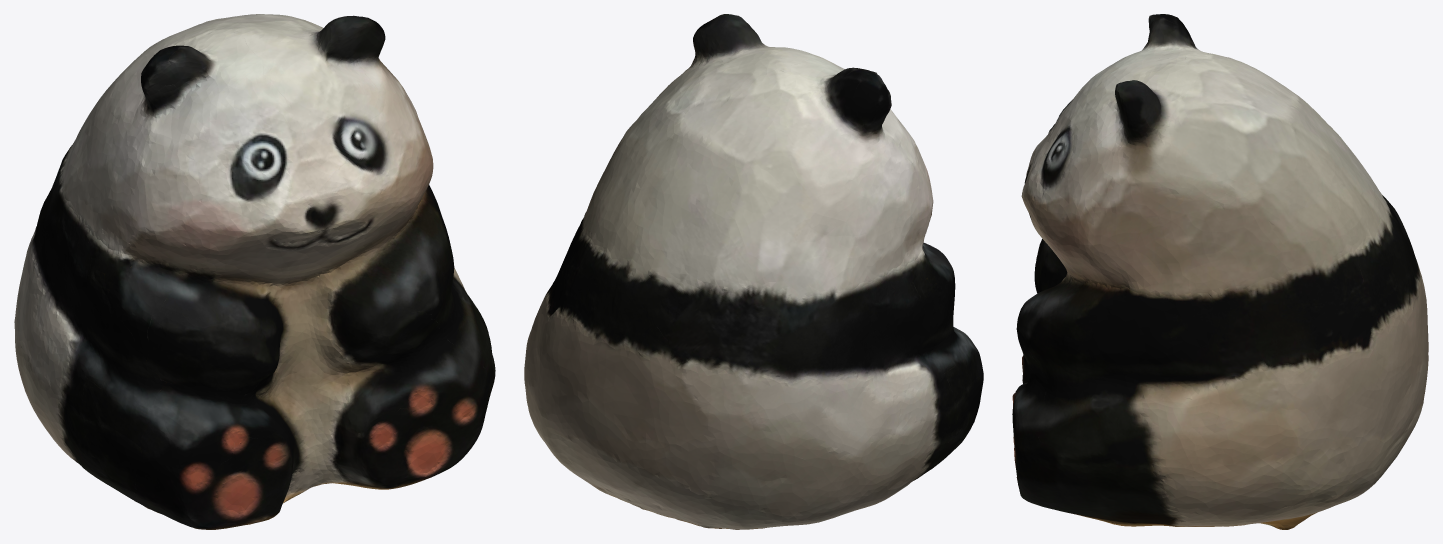
Rendered from panda_huahua.glb.
3 views of the same model, side by side, from view 1: azimuth 30°, elevation 25°; view 2: azimuth 150°, elevation 25°; view 3: azimuth 270°, elevation 25° (orthographic). The views are drawn at different scales.
Size of the model in its own units: 0.3866 by 0.4225 by 0.3711.
1 material, 1 textured.
